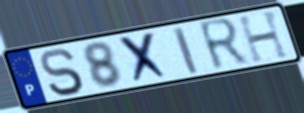8: (82, 40, 125, 91)
H: (236, 8, 293, 65)
I: (170, 24, 201, 76)
R: (195, 15, 253, 74)
S: (38, 46, 86, 98)
X: (116, 29, 172, 86)
